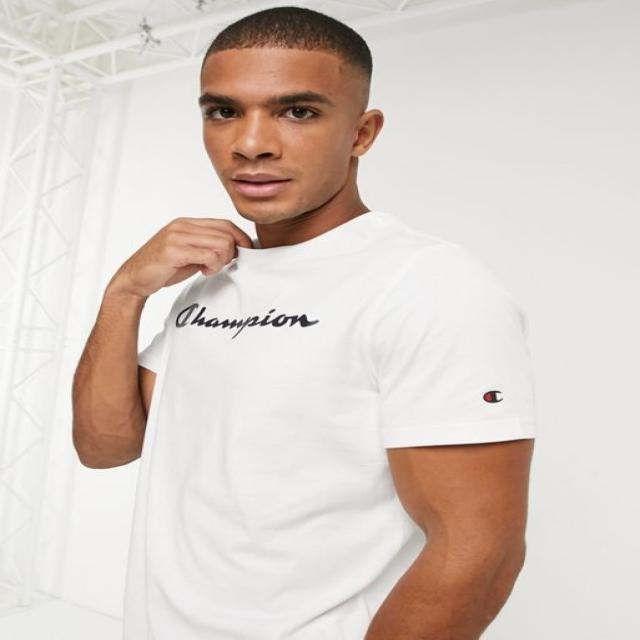tshirt: (119, 211, 535, 635)
